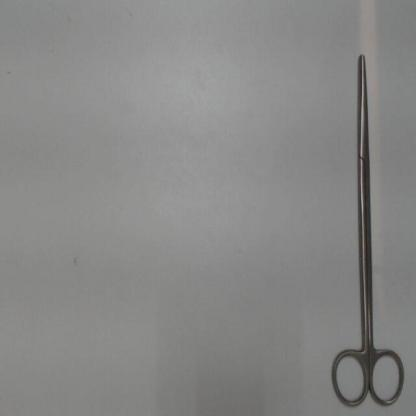9 Metzenbaum Scissors: (326, 48, 406, 409)
